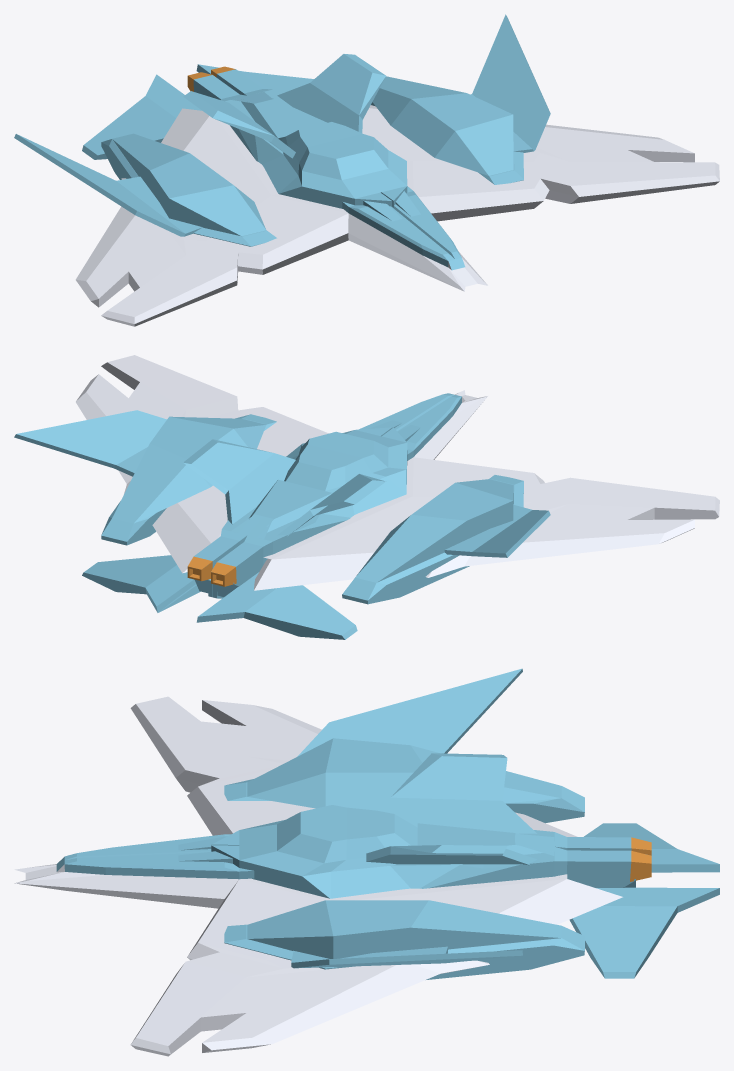
File: starship3.fbx
The picture shows the model from 3 angles, top to bottom: view 1: azimuth 30°, elevation 25°; view 2: azimuth 150°, elevation 25°; view 3: azimuth 270°, elevation 25°; orthographic projection. The views are drawn at different scales.
Parts seen in each view (by area): view 1: Cube; view 2: Cube; view 3: Cube.
Part boxes in pixels (left/top/right/bottom): Cube: left=14, top=14, right=719, bottom=326; Cube: left=14, top=355, right=719, bottom=639; Cube: left=14, top=668, right=719, bottom=1056.
Bounding box in the file's own units: 2988 × 411 × 2506.
